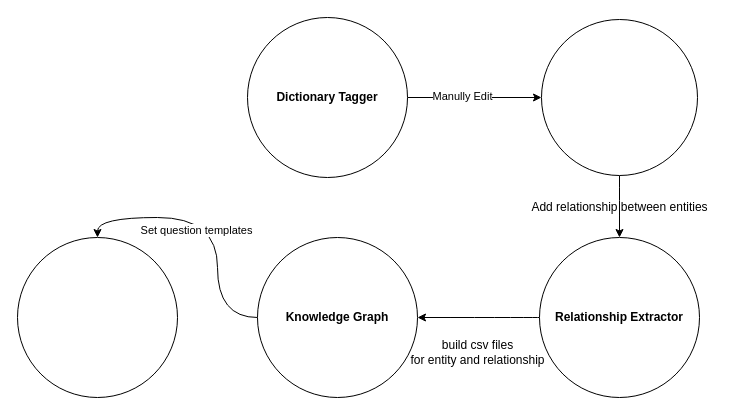
The diagram is 732 pixels wide and 415 high, and some of its shapes have lost their labels. The shapes that lost their labels are listed below. From the top down, each one's box as (x1, y1, x2, y2) in pixels, then its label:
(540, 18, 698, 176): Named Entity Recognizer
(16, 236, 178, 398): Question Answering
